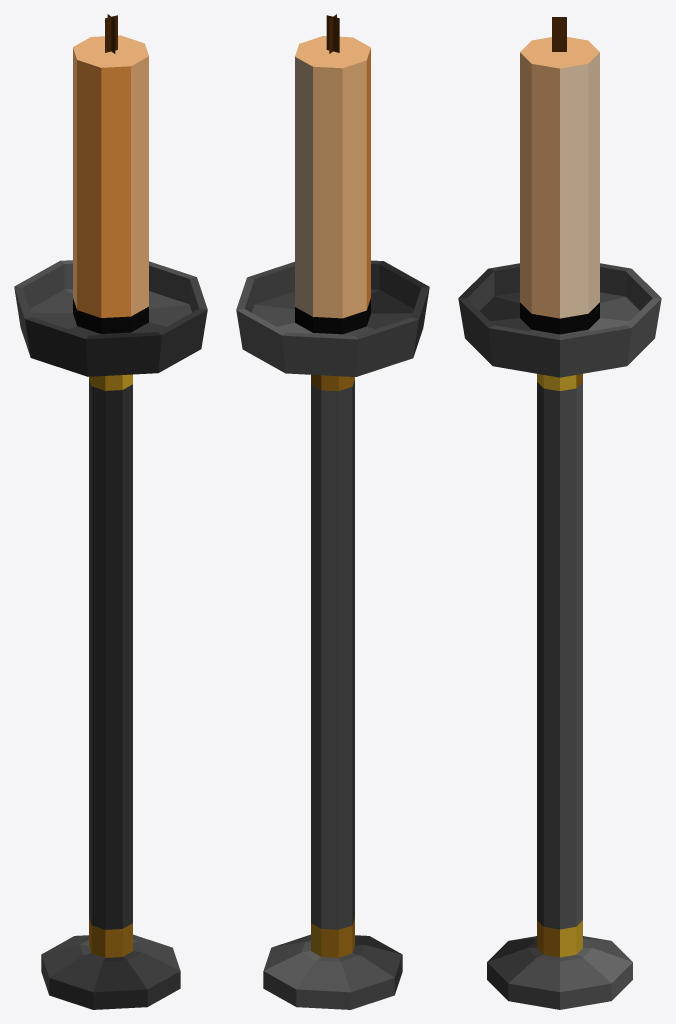
File: candle_336x11.gltf
The picture shows the model from 3 angles, left to right: view 1: azimuth 30°, elevation 25°; view 2: azimuth 150°, elevation 25°; view 3: azimuth 270°, elevation 25°; orthographic projection.
Parts seen in each view (by area): view 1: candle_336x11; view 2: candle_336x11; view 3: candle_336x11.
Part boxes in pixels (left/top/right/bottom): candle_336x11: left=14, top=14, right=207, bottom=1009; candle_336x11: left=236, top=14, right=429, bottom=1009; candle_336x11: left=458, top=17, right=661, bottom=1009.
Size of the model in its own units: 0.3725 by 2 by 0.3821.
Materials: 1 (1 with a texture image).
